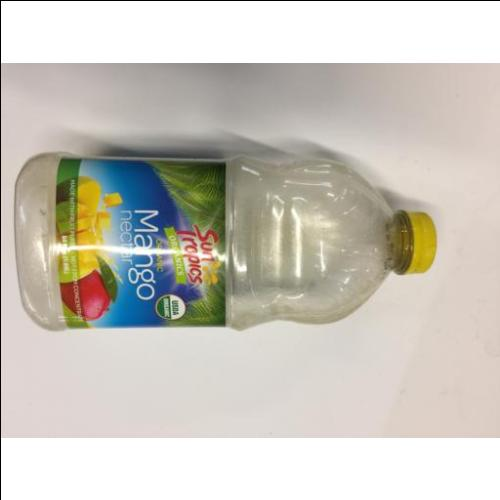plastic: (16, 154, 437, 334)
